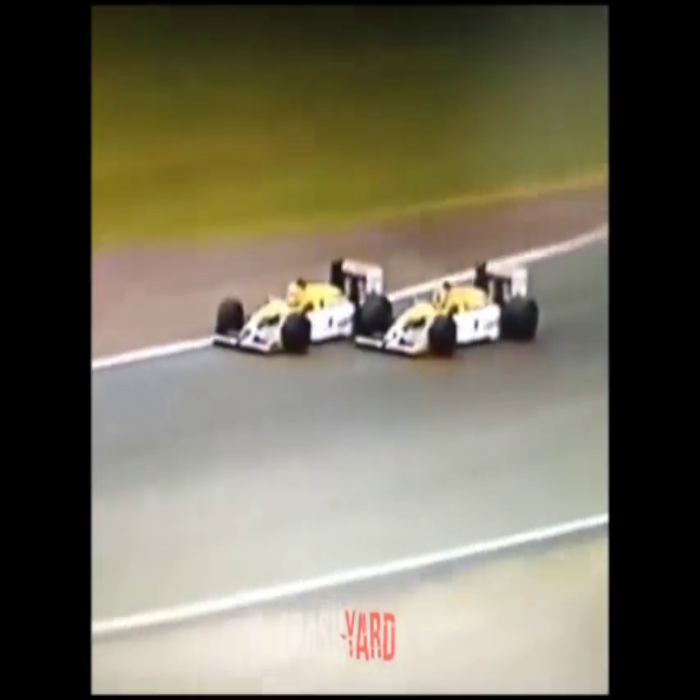f1_car: (365, 249, 549, 366), (205, 255, 398, 359)
